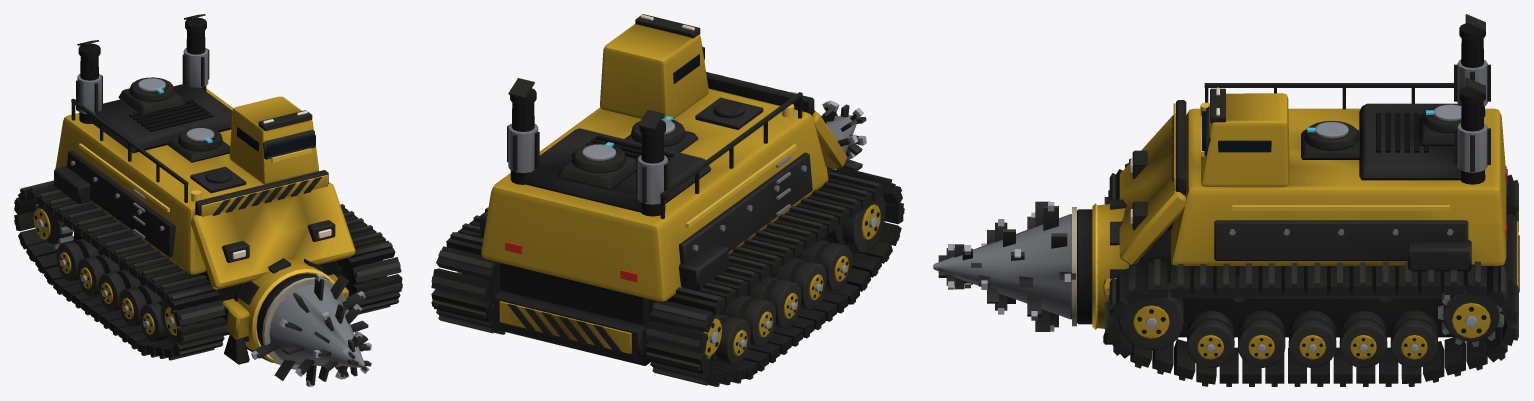
The model's file is ex_crawler_4.glb.
3 renders of one model, left to right at view 1: azimuth 30°, elevation 25°; view 2: azimuth 150°, elevation 25°; view 3: azimuth 270°, elevation 25°, orthographic. The views are drawn at different scales.
Visible parts, largest first — view 1: body, drill, wheel_9, wheel_10, wheel_11, wheel_12, wheel_7, wheel_13, wheel_8, wheel_1; view 2: body, wheel_8, drill, wheel_10, wheel_11, wheel_12, wheel_13, wheel_9, wheel_7; view 3: body, drill, wheel_1, wheel_0, wheel_3, wheel_4, wheel_2, wheel_6, wheel_5.
Boxes of the visible parts, x1,y1,x2,y2 form: body: (14, 14, 402, 364); drill: (251, 273, 371, 386); wheel_9: (56, 239, 99, 281); wheel_10: (77, 254, 120, 296); wheel_11: (98, 269, 140, 311); wheel_12: (119, 285, 161, 327); wheel_7: (33, 204, 73, 249); wheel_13: (140, 300, 168, 342); wheel_8: (160, 299, 211, 344); wheel_1: (338, 259, 386, 296); body: (431, 14, 904, 386); wheel_8: (825, 195, 885, 253); drill: (789, 91, 866, 171); wheel_10: (724, 295, 776, 347); wheel_11: (749, 276, 801, 328); wheel_12: (774, 257, 826, 309); wheel_13: (800, 239, 852, 291); wheel_9: (707, 313, 750, 365); wheel_7: (676, 315, 721, 359); body: (1092, 14, 1519, 386); drill: (933, 201, 1092, 331); wheel_1: (1119, 278, 1183, 350); wheel_0: (1438, 284, 1504, 346); wheel_3: (1339, 310, 1387, 367); wheel_4: (1288, 310, 1336, 367); wheel_2: (1390, 310, 1438, 367); wheel_6: (1187, 310, 1234, 367); wheel_5: (1238, 310, 1285, 367).
Size of the model in its own units: 6 by 6.02 by 11.29.
